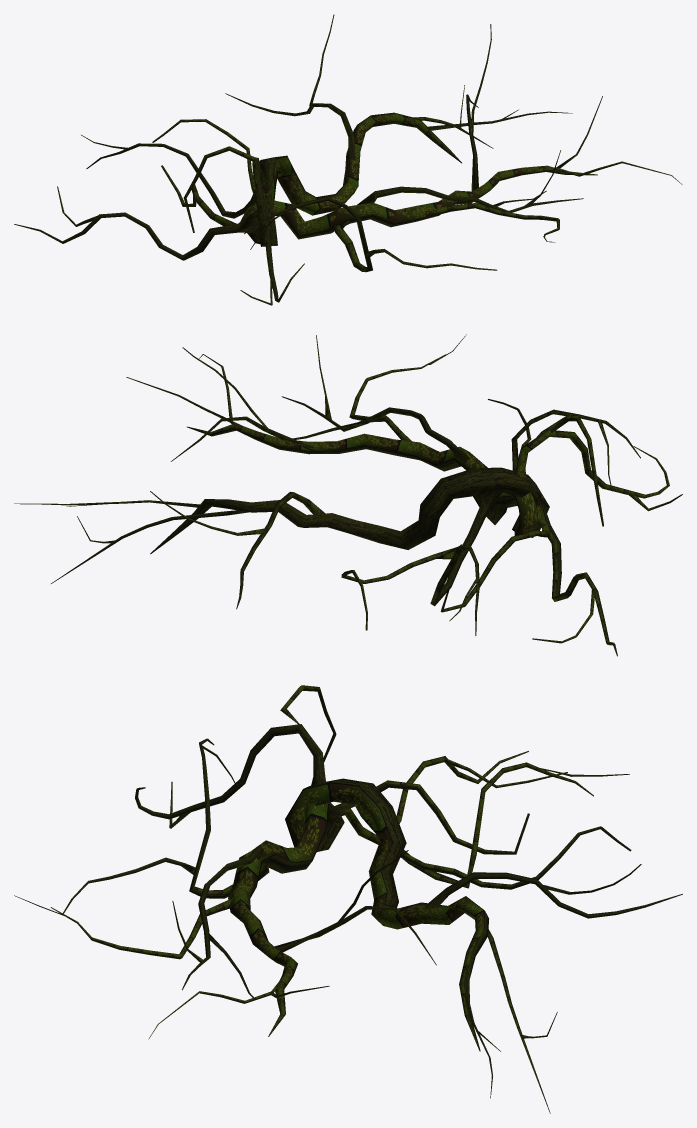
Rendered from Roots_1.fbx.
The picture shows the model from 3 angles, top to bottom: view 1: azimuth 30°, elevation 25°; view 2: azimuth 150°, elevation 25°; view 3: azimuth 270°, elevation 25°; orthographic projection. The views are drawn at different scales.
Visible parts, largest first — view 1: Roots_1; view 2: Roots_1; view 3: Roots_1.
Part boxes in pixels (<box>): Roots_1: <box>14,14,682,305</box>; Roots_1: <box>14,334,682,656</box>; Roots_1: <box>14,685,682,1113</box>.
Bounding box in the file's own units: 409 × 130 × 346.
